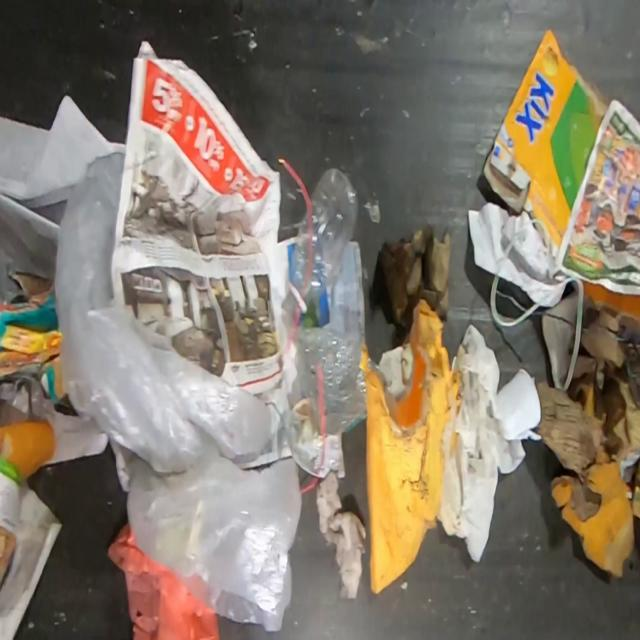cardboard: (358, 298, 461, 598), (483, 24, 604, 266), (534, 295, 639, 476), (549, 445, 639, 580), (0, 268, 64, 406), (381, 225, 455, 330)
rigid_plastic: (282, 163, 361, 320), (292, 324, 366, 435)
soft_plastic: (54, 152, 305, 632)
